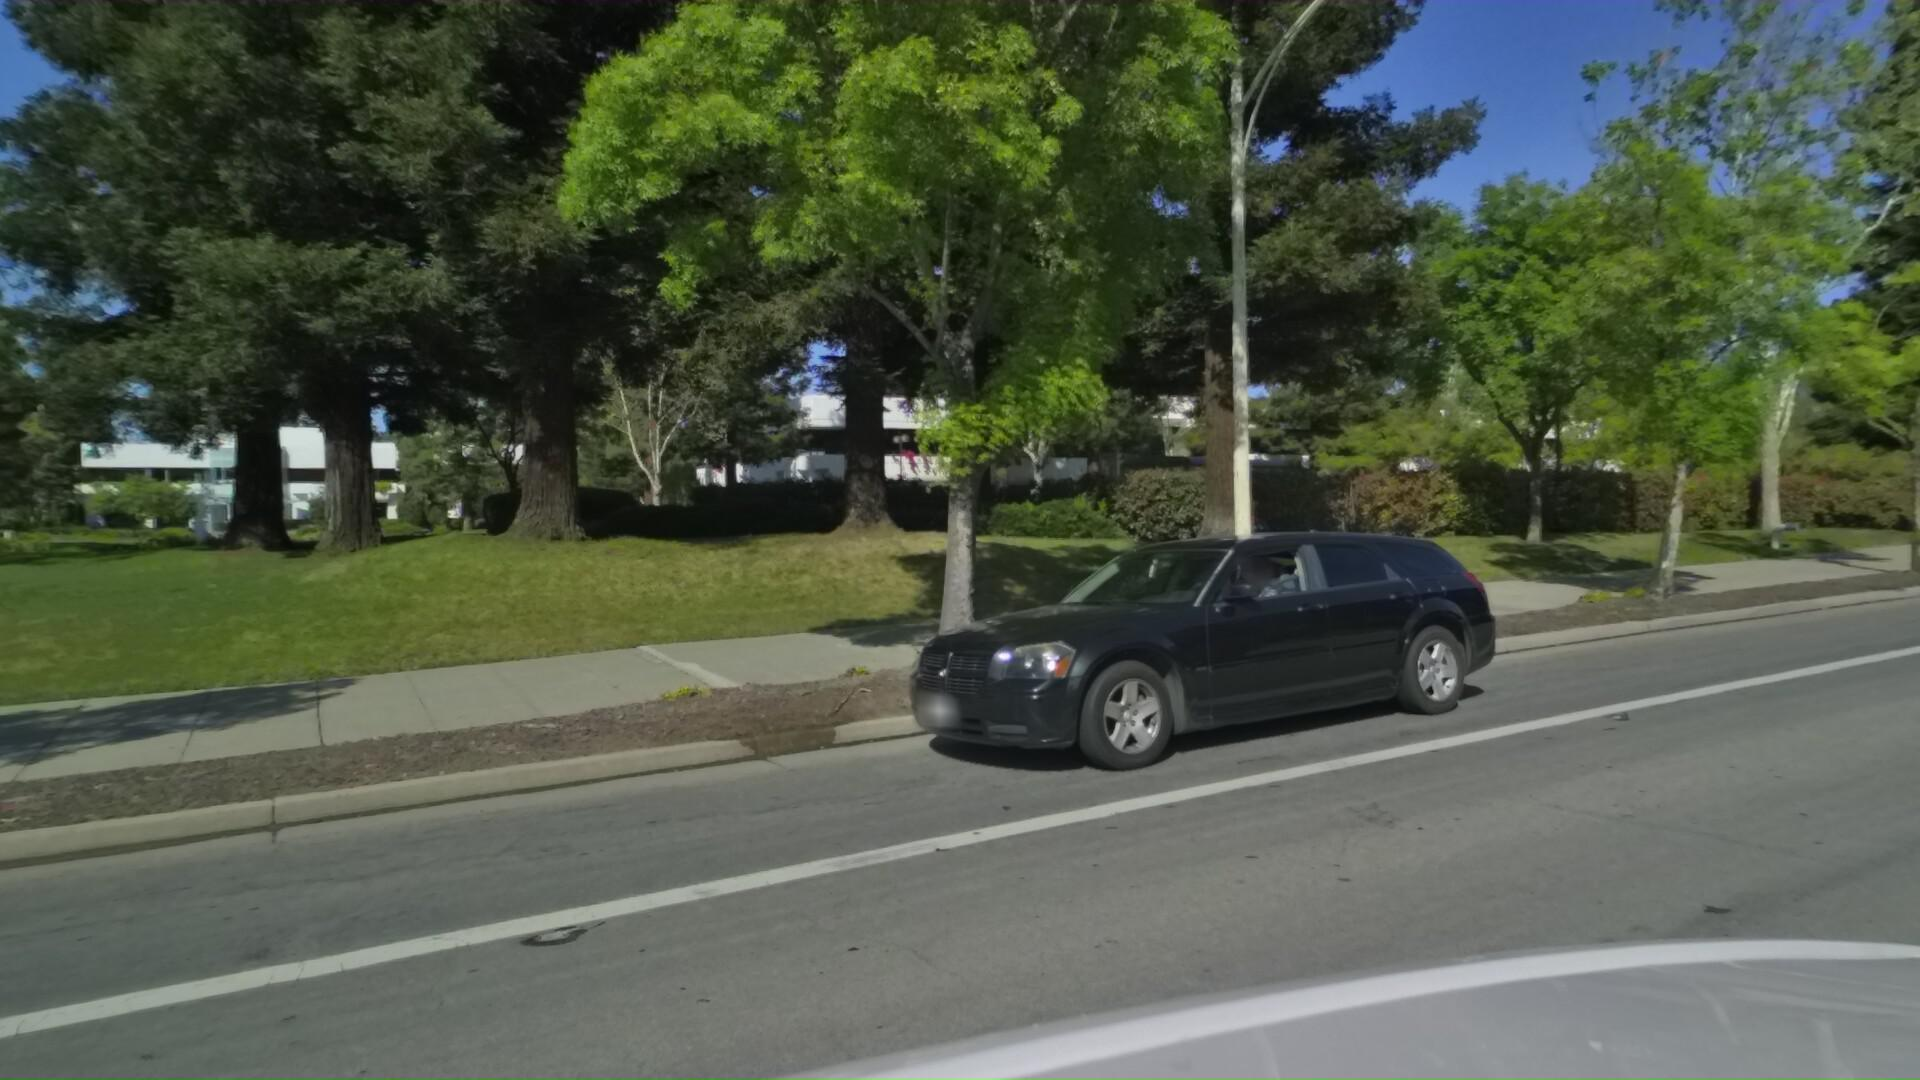car: (844, 514, 1493, 814)
